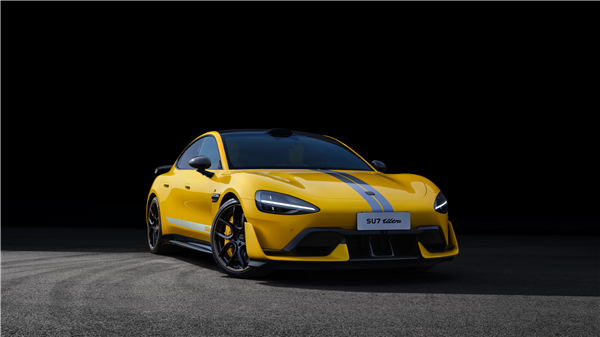su7: (147, 129, 461, 268)
